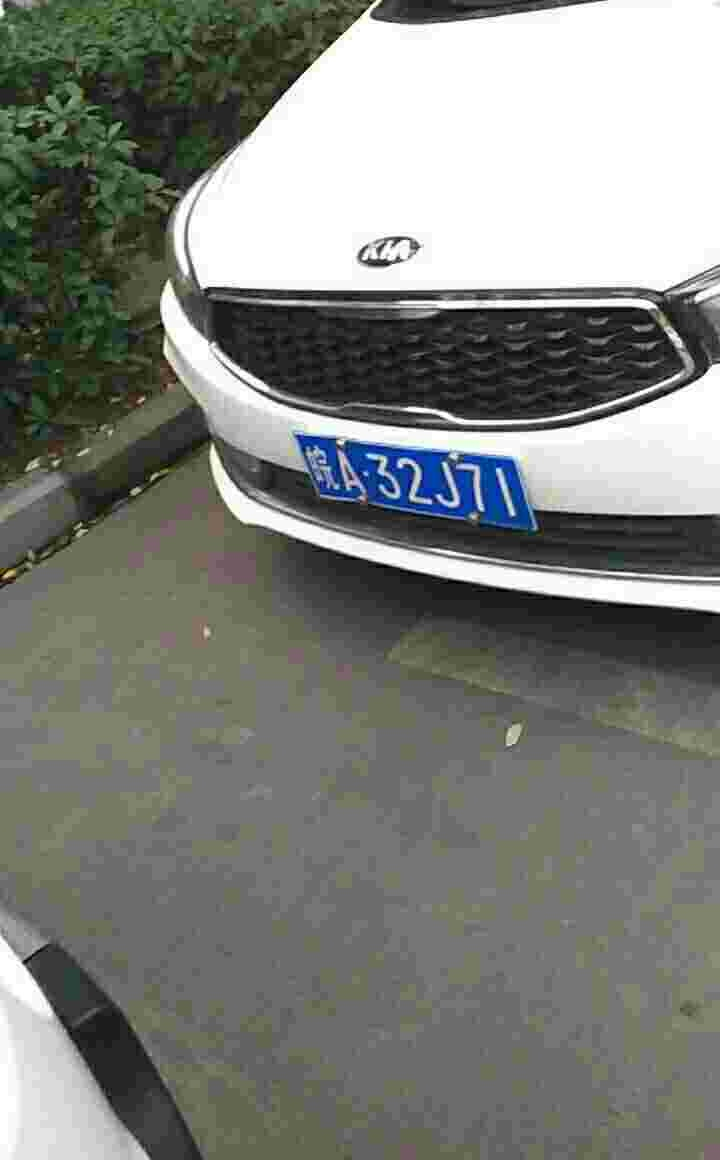license_plate: (305, 431, 542, 541)
